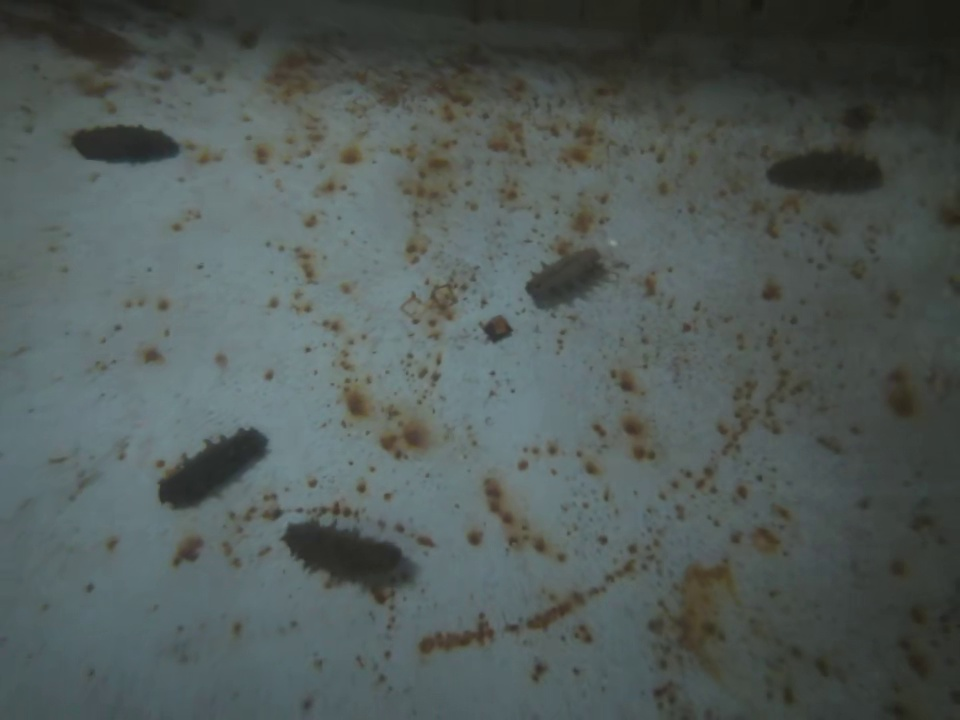seacucumber: (156, 426, 268, 511), (278, 521, 403, 586), (762, 149, 894, 193), (70, 122, 181, 170), (526, 242, 604, 303)
